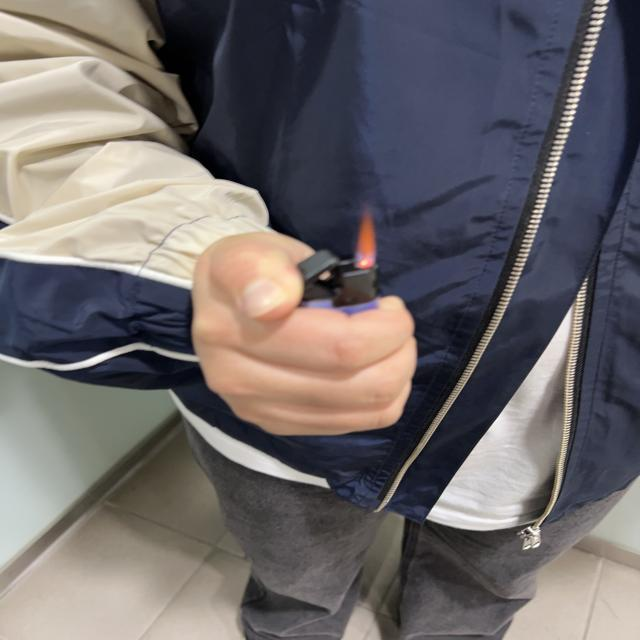fire: (356, 216, 382, 271)
